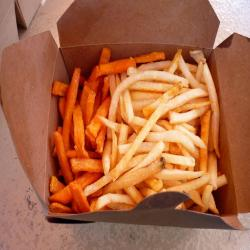fries: (112, 50, 233, 214), (41, 47, 124, 218)
